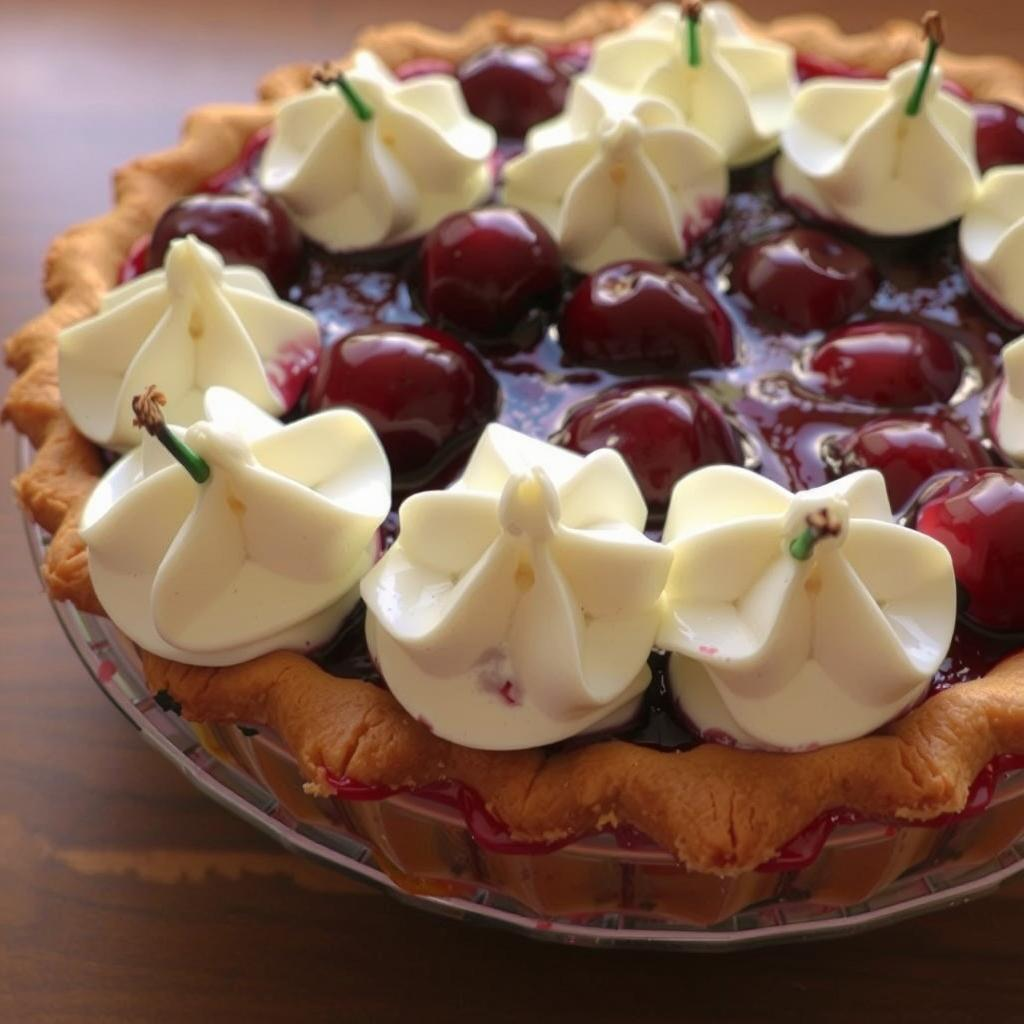pie: (0, 0, 1024, 929)
